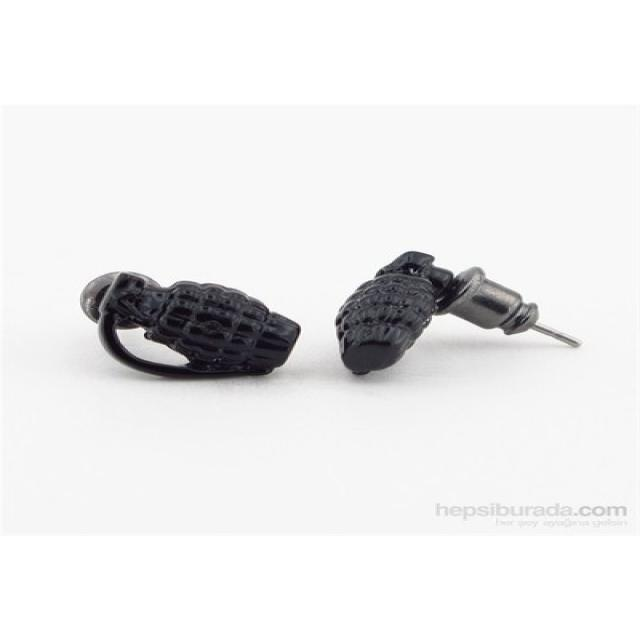grenade: (80, 269, 304, 383), (337, 253, 454, 380)
